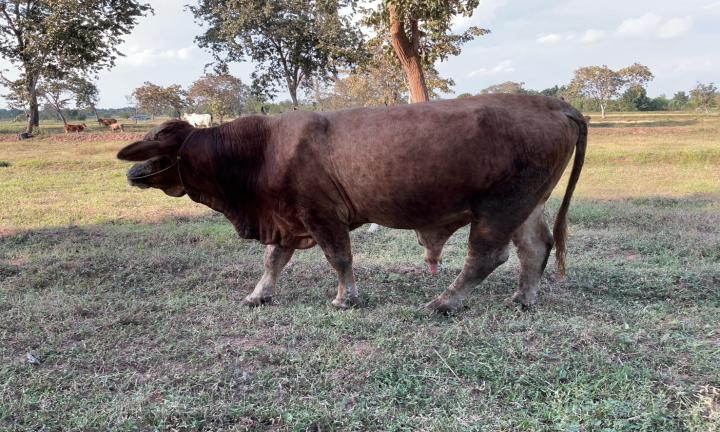Charolais: (117, 94, 587, 310)
